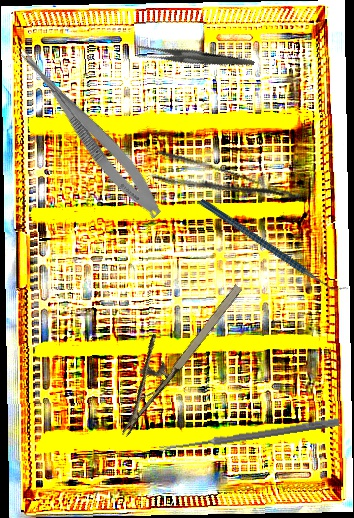Chopper: (198, 161, 349, 330)
Dressing Forceps: (149, 147, 299, 223), (134, 15, 255, 102)
Micro Scissor: (4, 40, 171, 224)
Needle Holder: (90, 264, 248, 438)
Surgical Spoon: (158, 416, 340, 455)
